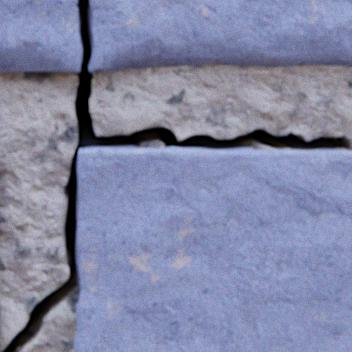brick: (74, 147, 351, 351)
broken_brick: (89, 0, 351, 71), (0, 0, 81, 72)
crack: (1, 0, 351, 351)
